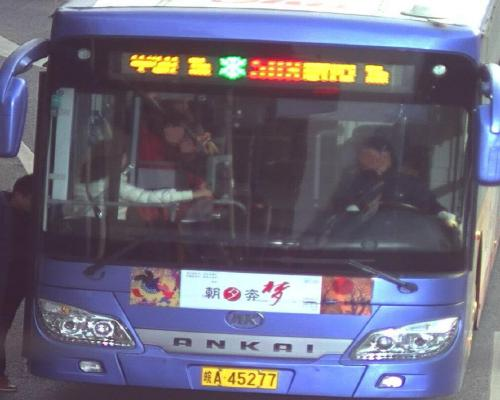Carplate: (194, 362, 283, 392)
